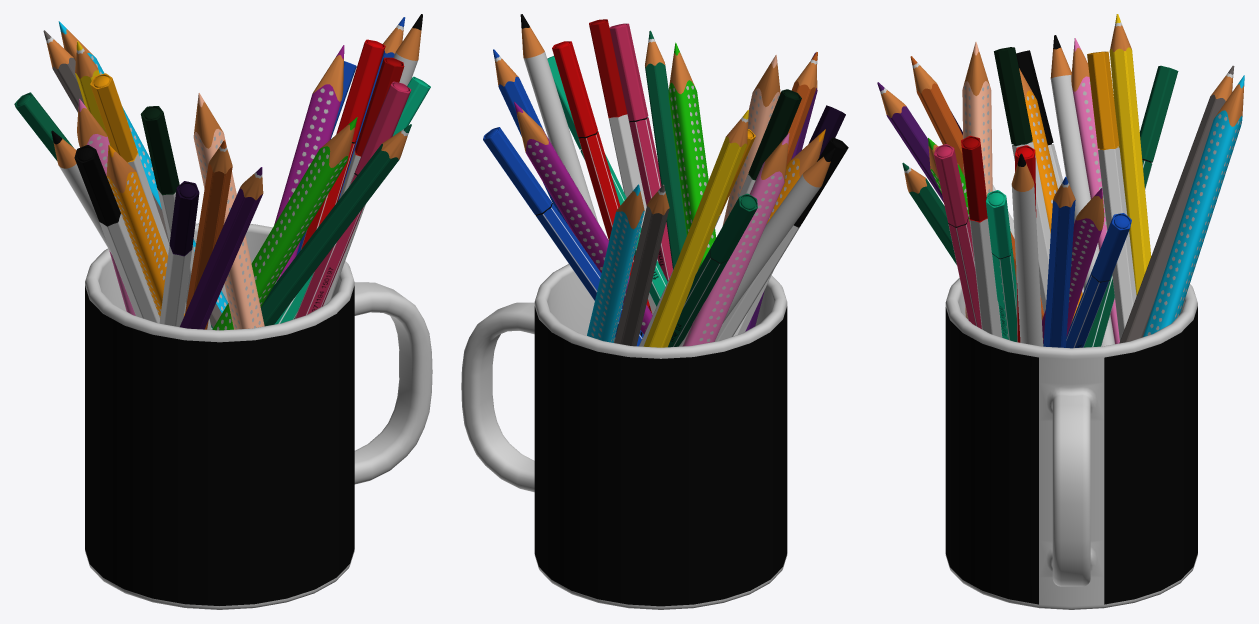
File: pencilHolder.obj
3 views of the same model, side by side, from view 1: azimuth 30°, elevation 25°; view 2: azimuth 150°, elevation 25°; view 3: azimuth 270°, elevation 25° (orthographic). The views are drawn at different scales.
Visible parts, largest first — view 1: Tasse, Buntstift_2.003, Buntstift_1.003, Fineliner.003, Buntstift_2.005, Buntstift_1.004, Buntstift_2.001, Buntstift_2.004, Filzstift.005, Fineliner.001, Buntstift_1.001, Filzstift.004 (+12 smaller); view 2: Tasse, Buntstift_1.005, Buntstift_2.006, Buntstift_2.004, Buntstift_2.003, Filzstift.002, Buntstift_2.002, Filzstift.004, Filzstift.005, Buntstift_1.003, Fineliner.005, Bleistift.002 (+13 smaller); view 3: Tasse, Buntstift_2.002, Buntstift_1.005, Fineliner.002, Buntstift_1.006, Bleistift.002, Fineliner.005, Buntstift_1.002, Bleistift.001, Fineliner.004, Filzstift.005, Filzstift.001 (+11 smaller).
Part boxes in pixels (box(x1,y1,x2,y2)): Tasse: box(85, 223, 432, 609); Buntstift_2.003: box(212, 117, 357, 330); Buntstift_1.003: box(261, 124, 411, 326); Fineliner.003: box(74, 145, 159, 323); Buntstift_2.005: box(106, 145, 184, 318); Buntstift_1.004: box(180, 167, 263, 329); Buntstift_2.001: box(193, 93, 264, 329); Buntstift_2.004: box(274, 45, 344, 284); Filzstift.005: box(295, 81, 411, 318); Fineliner.001: box(159, 181, 199, 326); Buntstift_1.001: box(185, 140, 232, 329); Filzstift.004: box(300, 39, 385, 250); Tasse: box(461, 264, 787, 609); Buntstift_1.005: box(643, 110, 748, 347); Buntstift_2.006: box(682, 133, 789, 346); Buntstift_2.004: box(514, 102, 652, 334); Buntstift_2.003: box(668, 42, 716, 269); Filzstift.002: box(483, 127, 643, 346); Buntstift_2.002: box(587, 184, 644, 342); Filzstift.004: box(552, 41, 652, 313); Filzstift.005: box(609, 23, 672, 281); Buntstift_1.003: box(645, 30, 686, 269); Fineliner.005: box(589, 19, 658, 314); Bleistift.002: box(520, 14, 615, 342); Tasse: box(945, 278, 1197, 609); Buntstift_2.002: box(1143, 75, 1244, 336); Buntstift_1.005: box(1109, 14, 1151, 295); Fineliner.002: box(1087, 51, 1136, 340); Buntstift_1.006: box(1119, 65, 1234, 343); Bleistift.002: box(1011, 153, 1043, 346); Fineliner.005: box(961, 135, 1002, 337); Buntstift_1.002: box(1043, 176, 1075, 347); Bleistift.001: box(1050, 35, 1114, 346); Fineliner.004: box(994, 47, 1050, 313); Filzstift.005: box(934, 144, 981, 328); Filzstift.001: box(985, 190, 1017, 341).
Size of the model in its own units: 0.1374 by 0.1796 by 0.122.
36 materials, 22 textured.
